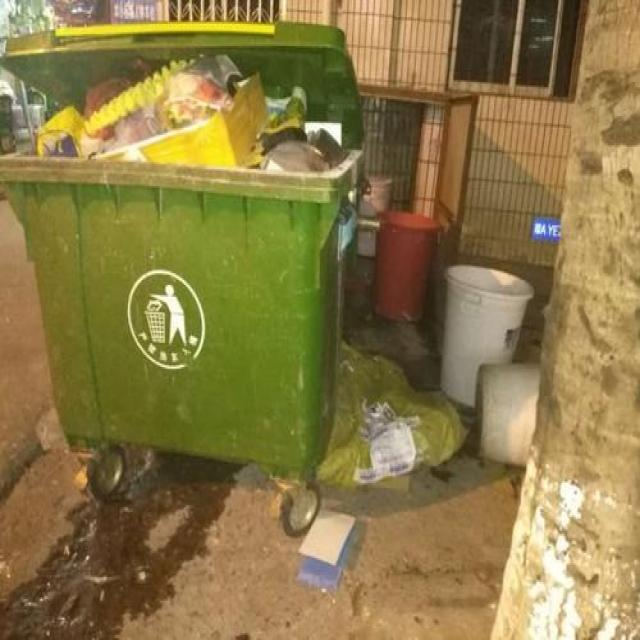garbage: (301, 341, 466, 584)
overflow: (0, 18, 365, 480)
